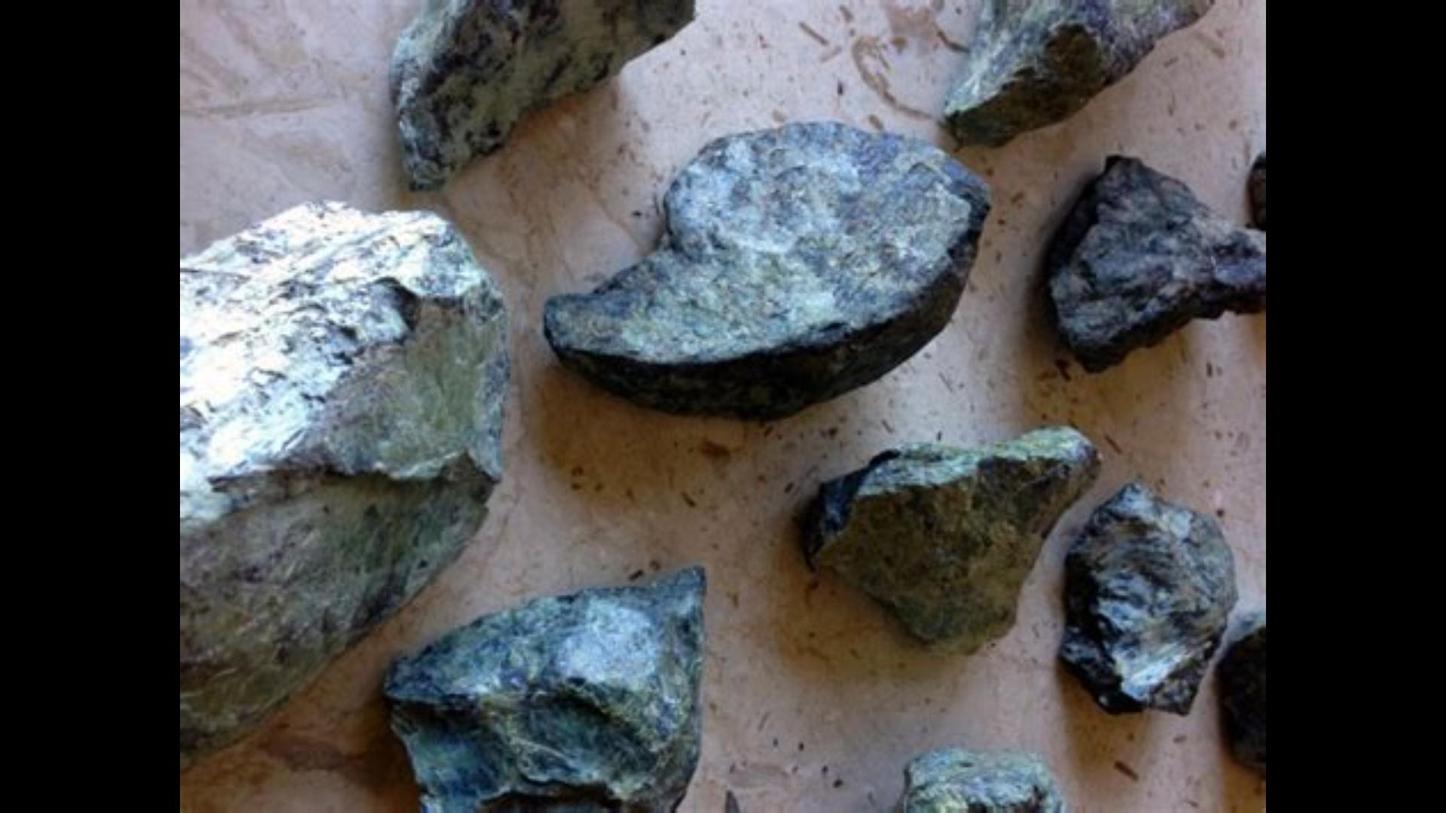rock: (544, 124, 984, 412)
